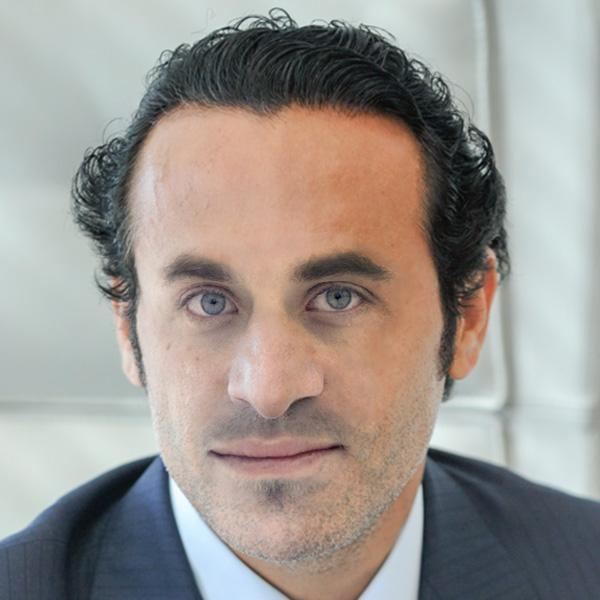Eyes: (295, 276, 381, 329), (169, 279, 249, 331)
